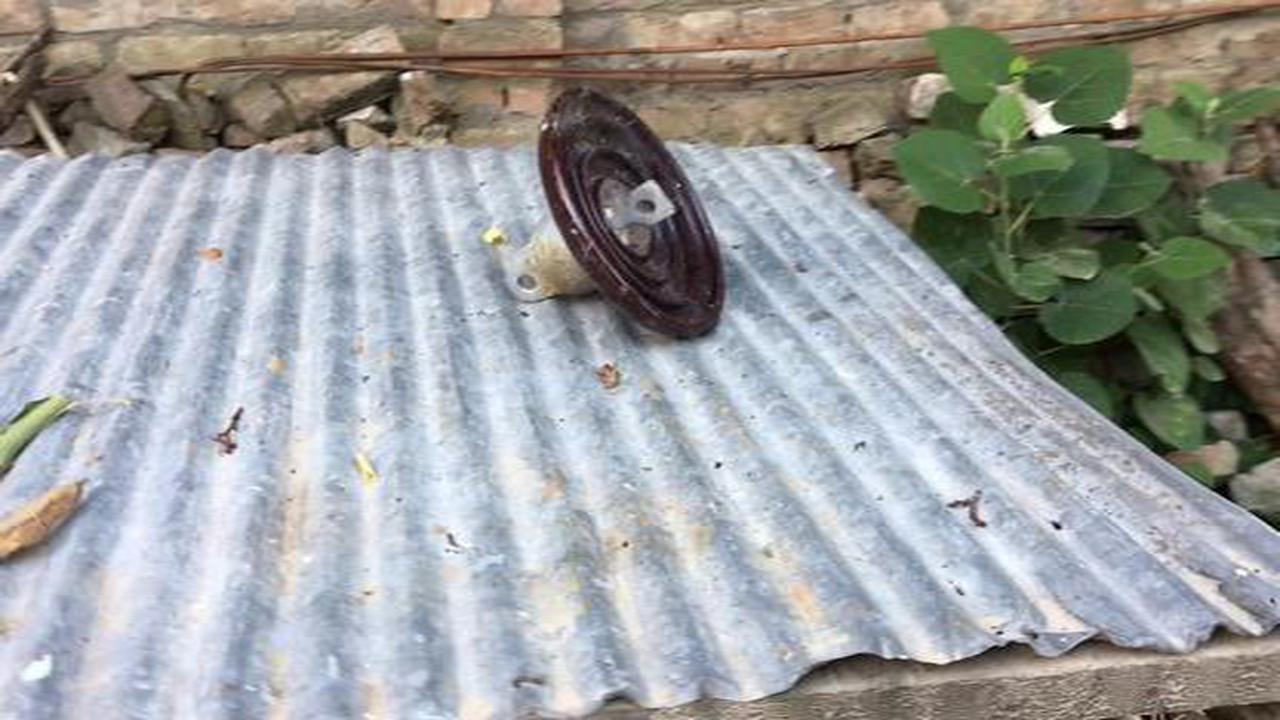insulator_disc: (498, 83, 736, 353)
